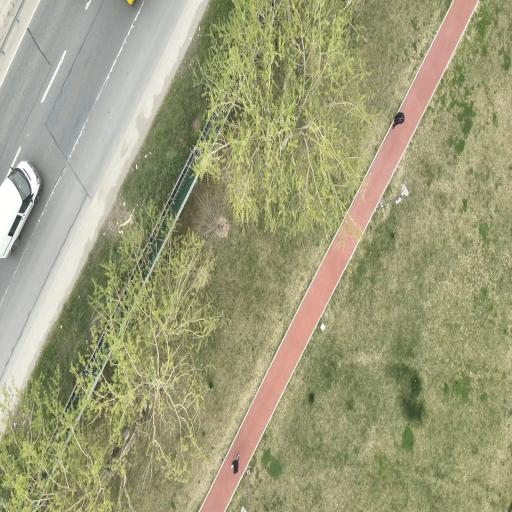car: (0, 162, 42, 257)
person: (393, 112, 404, 128), (232, 455, 239, 474)
